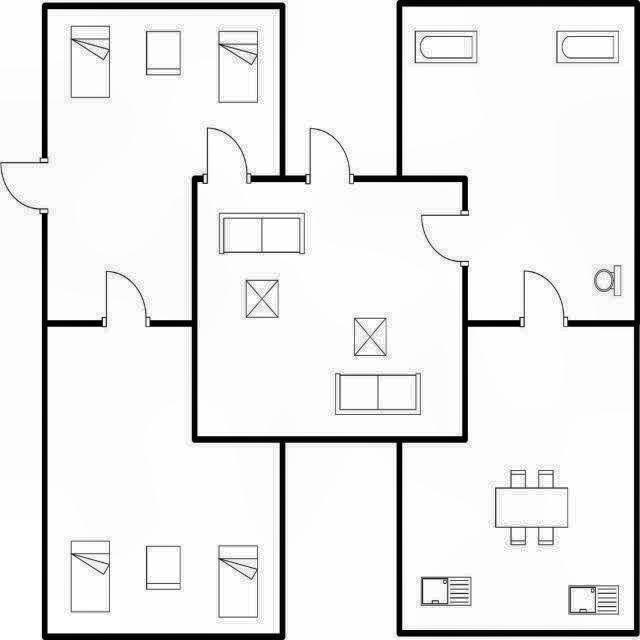room: (402, 7, 634, 320), (47, 9, 280, 320), (47, 327, 280, 633), (402, 327, 634, 630), (197, 182, 462, 436)
